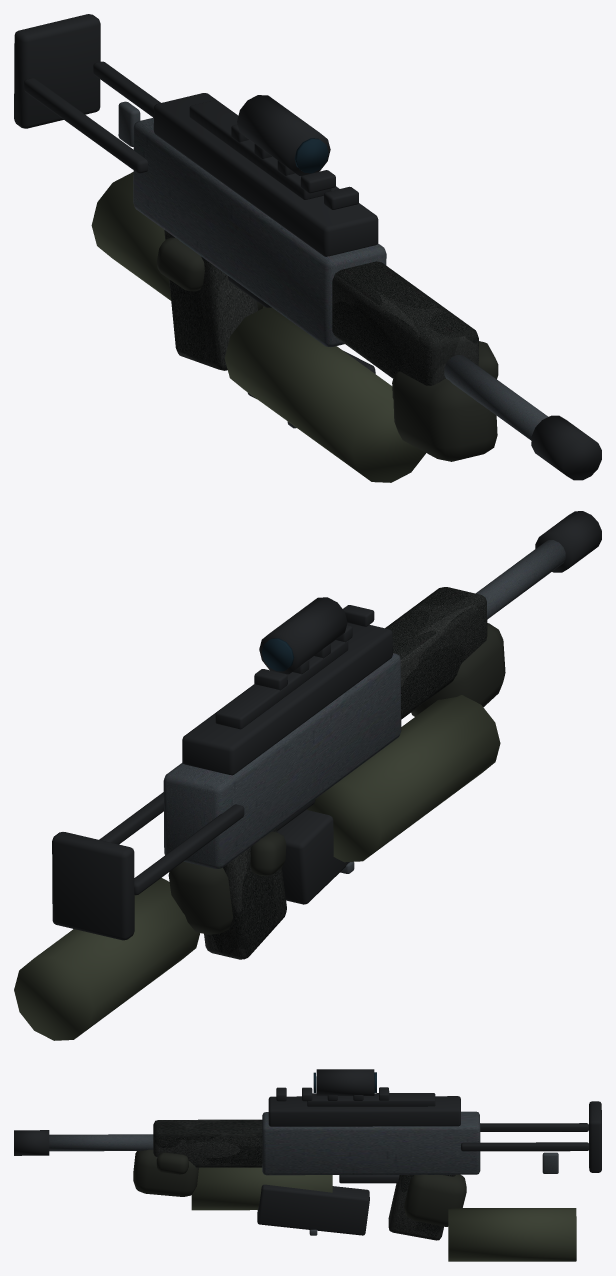
File: weapon_uzi.glb
The picture shows the model from 3 angles, top to bottom: view 1: azimuth 30°, elevation 25°; view 2: azimuth 150°, elevation 25°; view 3: azimuth 270°, elevation 25°; orthographic projection. The views are drawn at different scales.
Visible parts, largest first — view 1: WeaponMesh; view 2: WeaponMesh; view 3: WeaponMesh.
Part boxes in pixels (bbox=[...]): WeaponMesh: bbox=[14, 14, 601, 482]; WeaponMesh: bbox=[14, 511, 601, 1040]; WeaponMesh: bbox=[14, 1069, 601, 1261].
Bounding box in the file's own units: 0.1707 × 0.2984 × 0.9178.
6 materials, 2 textured.
